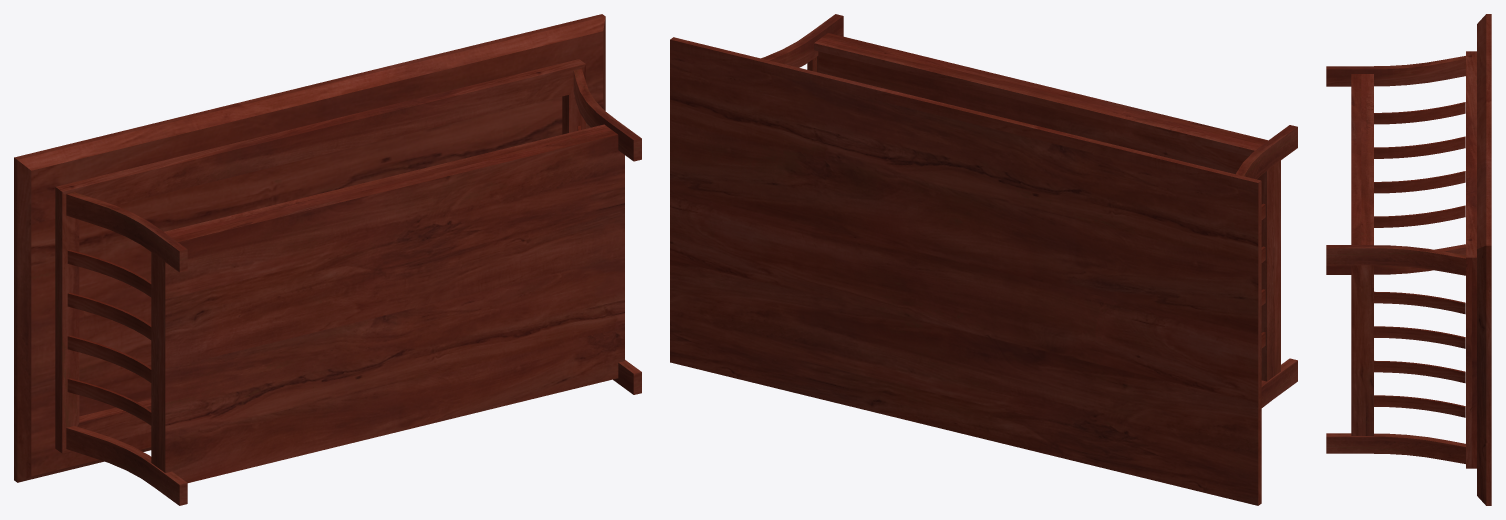
The model's file is mH_CoffeeTable.fbx.
3 views of the same model, side by side, from view 1: azimuth 30°, elevation 25°; view 2: azimuth 150°, elevation 25°; view 3: azimuth 270°, elevation 25° (orthographic). The views are drawn at different scales.
Parts seen in each view (by area): view 1: mH_CoffeeTable; view 2: mH_CoffeeTable; view 3: mH_CoffeeTable.
Boxes of the visible parts, <box> form: mH_CoffeeTable: <box>14,14,641,505</box>; mH_CoffeeTable: <box>670,14,1297,505</box>; mH_CoffeeTable: <box>1326,14,1491,505</box>.
Size of the model in its own units: 261 by 137 by 78.67.
